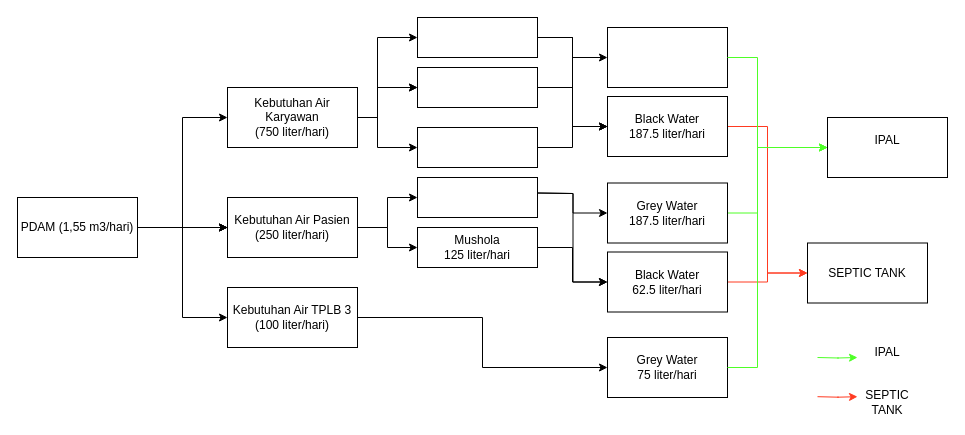
The diagram is 965 pixels wide and 435 high, and some of its shapes have lost their labels. The box of each missing label's shape, as (x1, y1, x2, y2) in pixels:
Dapur & WC 125 liter/hari: (416, 176, 538, 218)
Dapur & WC 535 liter/hari: (416, 126, 538, 168)
Grey Water 562.5 liter/hari: (606, 26, 728, 88)
Laboratorium 200 liter/hari: (416, 66, 538, 108)
Mushola 15 liter/hari: (416, 16, 538, 58)
